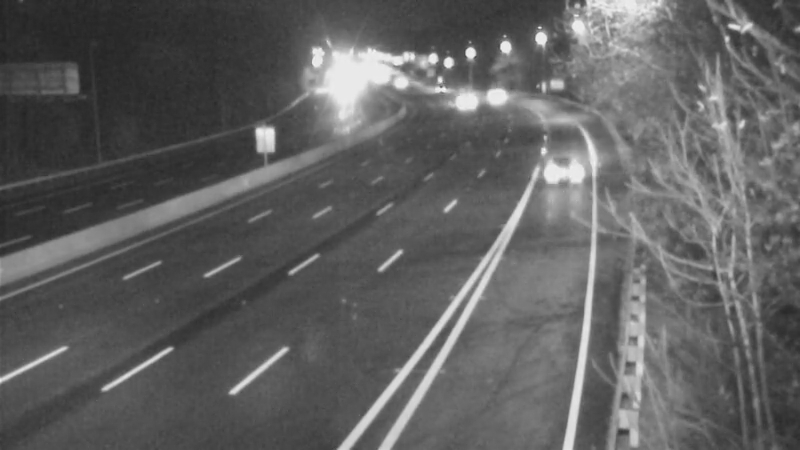vehicle: (523, 134, 603, 214), (407, 61, 457, 111), (474, 73, 524, 123), (437, 76, 487, 126)
